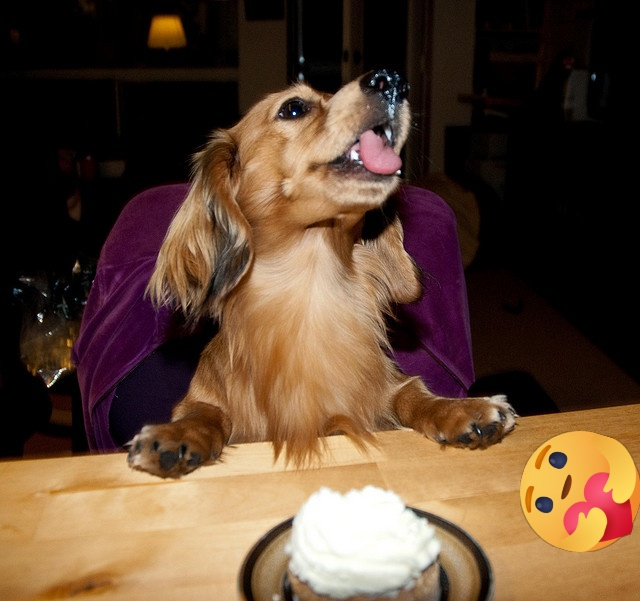care: (520, 431, 640, 552)
